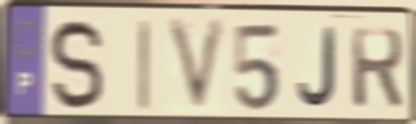5: (231, 20, 283, 115)
I: (136, 17, 152, 115)
J: (296, 25, 339, 111)
R: (348, 25, 407, 113)
S: (48, 16, 107, 115)
V: (164, 15, 231, 118)
